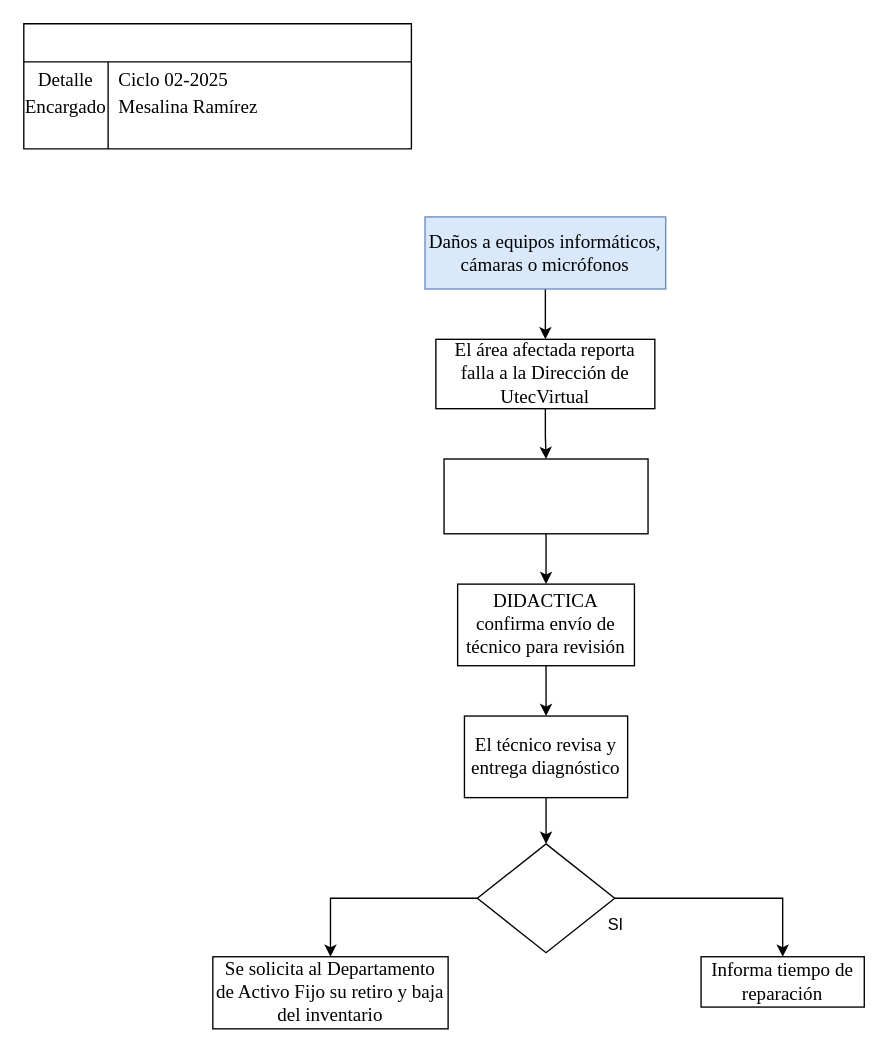
Some shapes in this 888 by 1053 pixel diagram are drawn without their labels. The box of each missing label's shape, as (x1, y1, x2, y2) in pixels:
La Dirección envía el reporte a DIDACTICA Inversiones: (443, 458, 648, 534)
Reporte de daños: (22, 22, 411, 149)
¿Reparable?: (476, 843, 615, 953)
